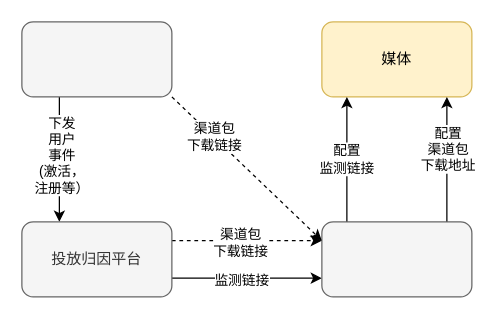
Image size: 496x319. Some labels were removed from this diagram. The shapes that lost their labels are listed below. From the top down, each one's box as (x1, y1, x2, y2) in pixels, then its label:
(21, 21, 172, 97): APP(momo,tanan)
(321, 221, 472, 297): 运营
